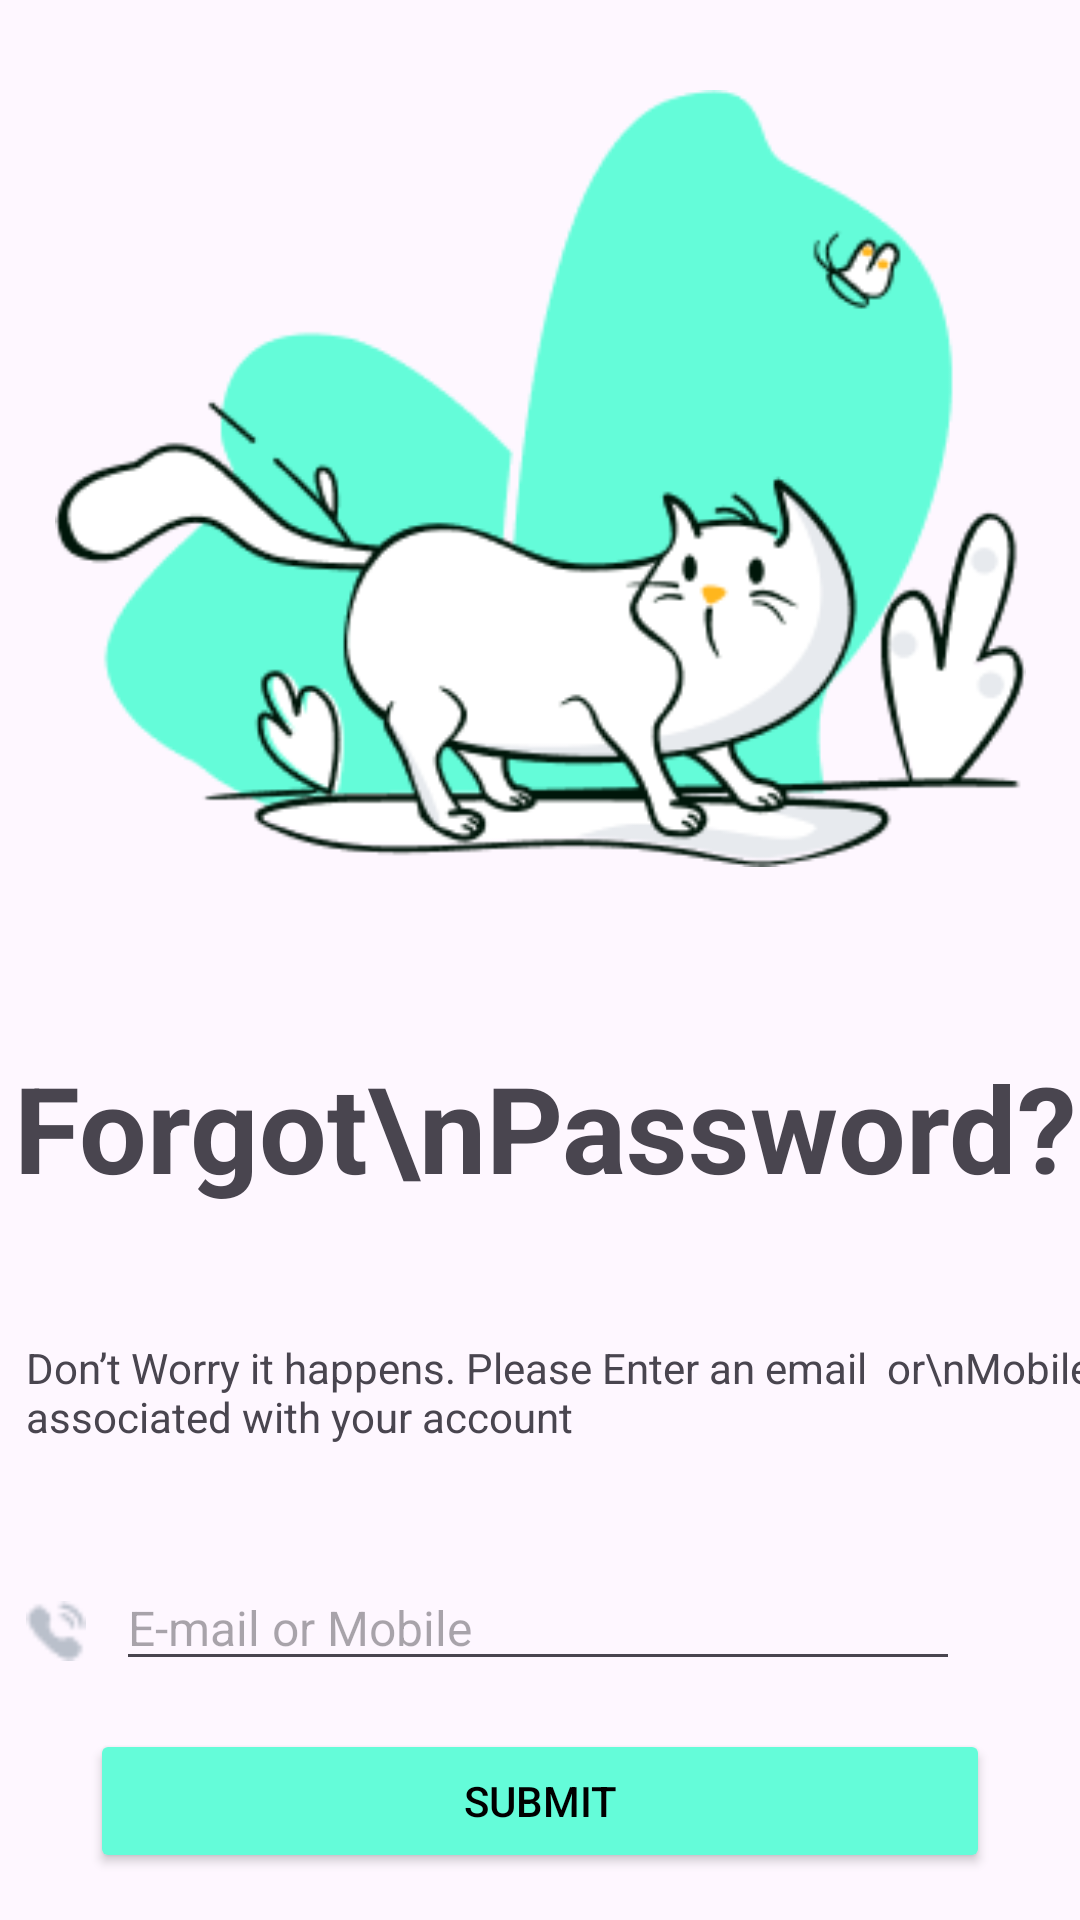

Icons on this 1080px×1920px Android screen, each with the point to tap as (x,y):
calling: (56,1632)
